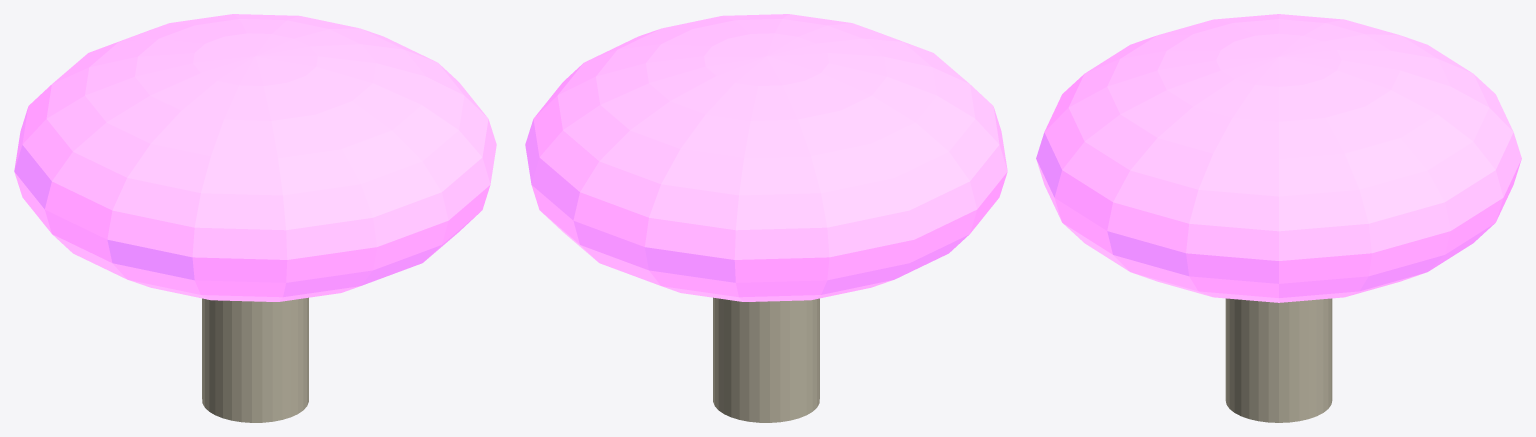
The model's file is Mushroom.fbx.
3 renders of one model, left to right at view 1: azimuth 30°, elevation 25°; view 2: azimuth 150°, elevation 25°; view 3: azimuth 270°, elevation 25°, orthographic.
Visible parts, largest first — view 1: Mushroom_Cap, Mushroom_Stem; view 2: Mushroom_Cap, Mushroom_Stem; view 3: Mushroom_Cap, Mushroom_Stem.
Part boxes in pixels (bbox=[...]): Mushroom_Cap: bbox=[14, 14, 496, 301]; Mushroom_Stem: bbox=[202, 297, 308, 422]; Mushroom_Cap: bbox=[525, 14, 1007, 301]; Mushroom_Stem: bbox=[713, 297, 819, 422]; Mushroom_Cap: bbox=[1036, 14, 1521, 302]; Mushroom_Stem: bbox=[1225, 298, 1332, 422].
Bounding box in the file's own units: 0.91 × 0.71 × 0.91.
